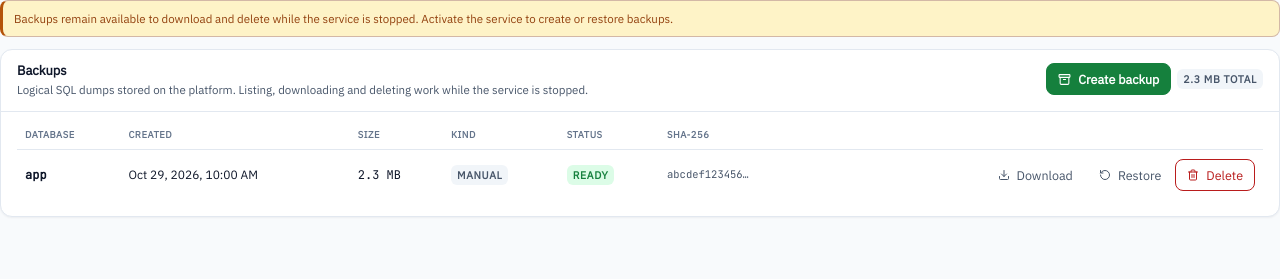
Scenario: BackupsTab › shows an inactive-service error instead of restoring while stopped
The image size is (1280, 279).
What coordinates should you click on to do the following:
click the button with aria-label "restore app backup"
I would click on:
 (1130, 175)
Its box is x1=1087 y1=159 x2=1173 y2=191.
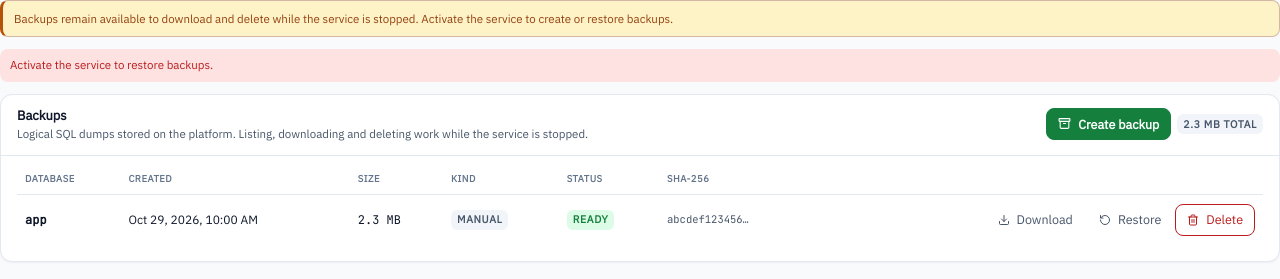
Expected: the text "Activate the service to restore backups." is shown, x1=0 y1=49 x2=1279 y2=82
